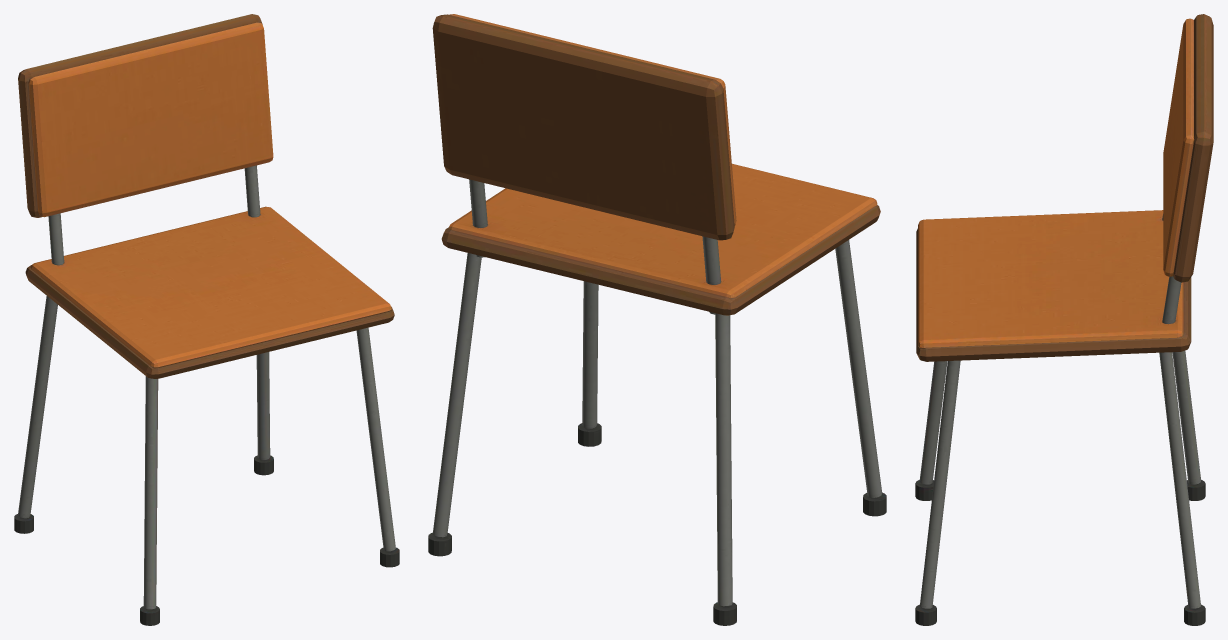
File: props-chair-plywood-orange.glb
The picture shows the model from 3 angles, left to right: view 1: azimuth 30°, elevation 25°; view 2: azimuth 150°, elevation 25°; view 3: azimuth 270°, elevation 25°; orthographic projection. The views are drawn at different scales.
Parts seen in each view (by area): view 1: case-baked; view 2: case-baked; view 3: case-baked.
Boxes of the visible parts, left/top/right/bottom form: case-baked: left=14, top=14, right=399, bottom=625; case-baked: left=428, top=14, right=886, bottom=625; case-baked: left=915, top=14, right=1213, bottom=625.
Bounding box in the file's own units: 0.4712 × 0.7988 × 0.444.
Materials: 1 (1 with a texture image).
